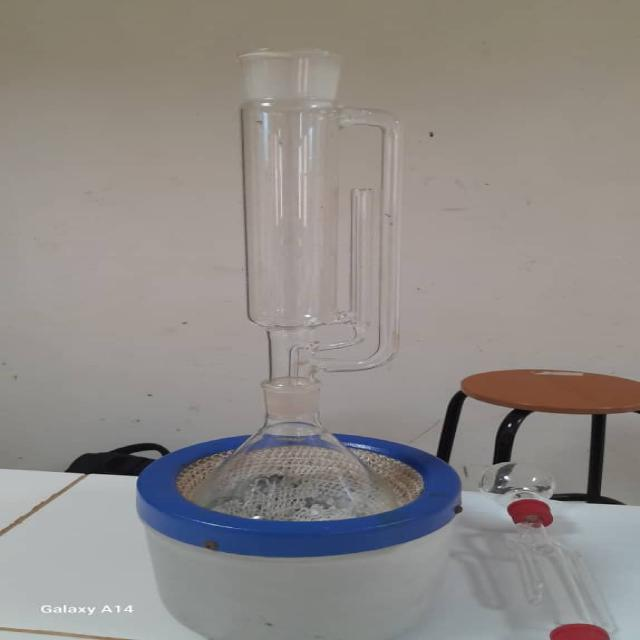Soxhlet: (193, 44, 421, 388)
